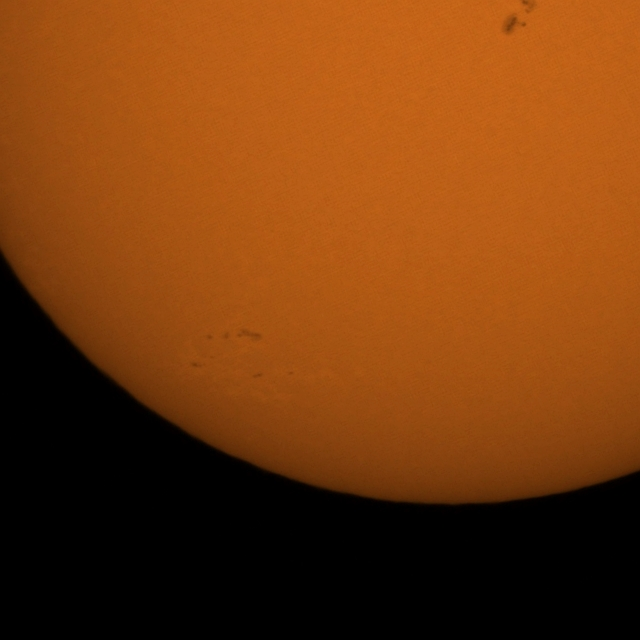sunspot: (502, 4, 530, 35), (520, 0, 537, 15)
